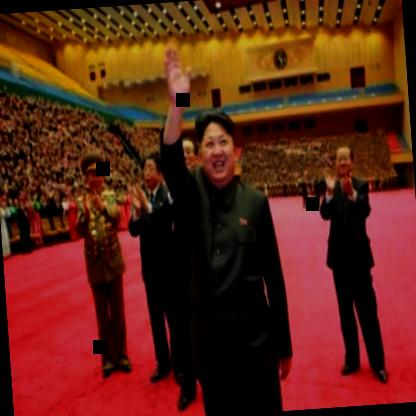head: (191, 105, 242, 188), (80, 151, 108, 199), (174, 136, 202, 184), (136, 152, 166, 196), (334, 140, 358, 182)
